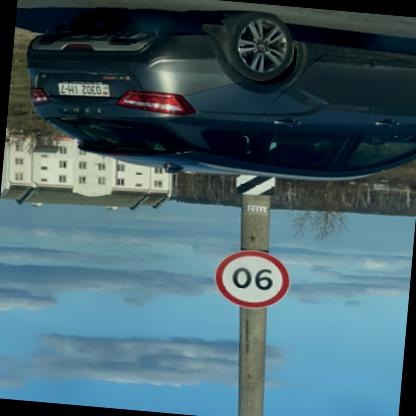speedlimit: (214, 249, 294, 313)
